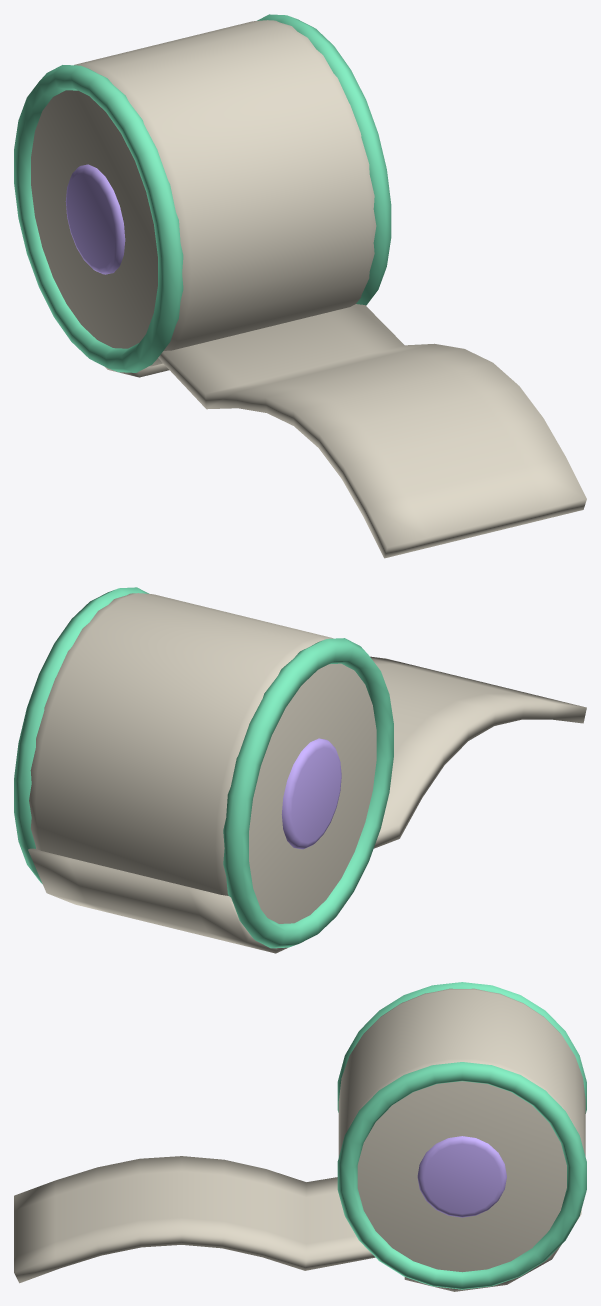
The model's file is BathroomToiletRoll_Premium.fbx.
3 renders of one model, top to bottom at view 1: azimuth 30°, elevation 25°; view 2: azimuth 150°, elevation 25°; view 3: azimuth 270°, elevation 25°, orthographic. The views are drawn at different scales.
Visible parts, largest first — view 1: BathroomToiletRoll; view 2: BathroomToiletRoll; view 3: BathroomToiletRoll.
Part boxes in pixels (x1,y1,x2,y2): BathroomToiletRoll: [14, 14, 586, 558]; BathroomToiletRoll: [14, 587, 586, 953]; BathroomToiletRoll: [14, 982, 586, 1291].
Size of the model in its own units: 0.1936 by 0.2378 by 0.5336.
